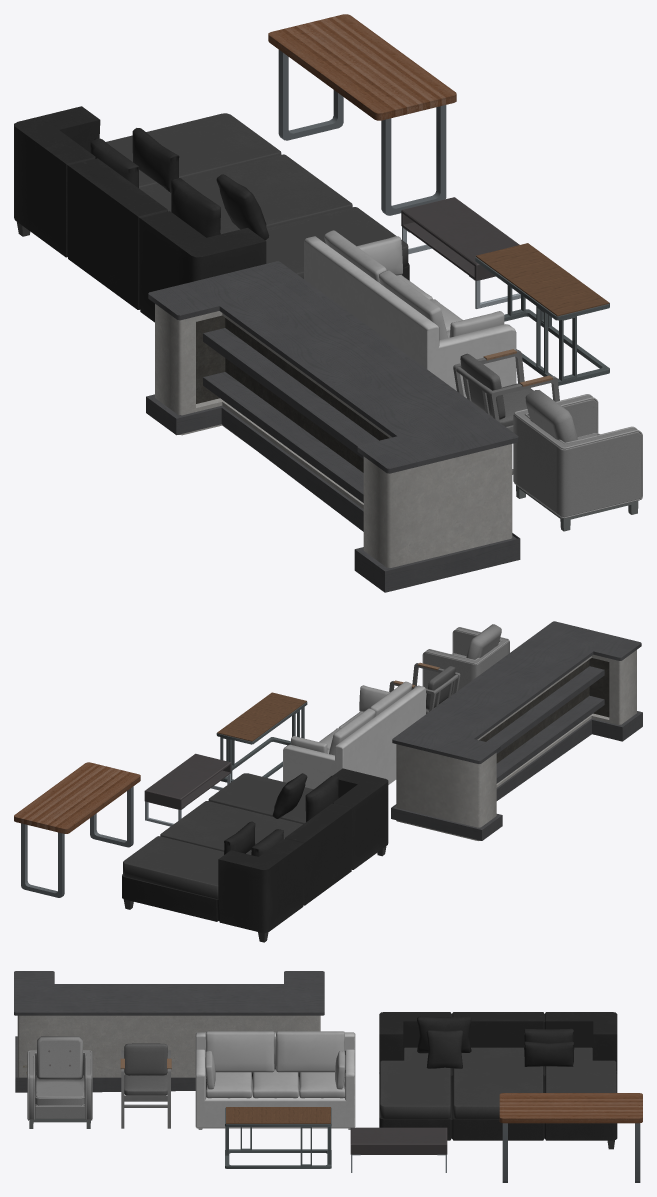
File: pack.fbx
The picture shows the model from 3 angles, top to bottom: view 1: azimuth 30°, elevation 25°; view 2: azimuth 150°, elevation 25°; view 3: azimuth 270°, elevation 25°; orthographic projection. The views are drawn at different scales.
Parts seen in each view (by area): view 1: rec_top_low, rec_main_low, csofa_base_low, csofa_top_low, table3_top_low, korpus_low, sofa_main_low, rec_polki_low, rec_down_low, table2_top_low, table1_top_low, table3_down_low (+12 smaller); view 2: csofa_base_low, rec_top_low, rec_main_low, csofa_top_low, sofa_main_low, table3_top_low, rec_polki_low, rec_down_low, table2_top_low, korpus_low, table1_top_low, table3_down_low (+11 smaller); view 3: csofa_top_low, rec_top_low, csofa_base_low, rec_main_low, sofa_pillowback_low, sofa_main_low, table3_top_low, sofa_pillow_under_low, table2_top_low, spine_low, table1_top_low, podushka2_low (+15 smaller).
Part boxes in pixels (box(x1,y1,x2,y2)): rec_top_low: box(148, 261, 518, 473); rec_main_low: box(155, 304, 512, 567); csofa_base_low: box(14, 106, 409, 322); csofa_top_low: box(106, 113, 408, 278); table3_top_low: box(268, 14, 456, 120); korpus_low: box(513, 395, 641, 517); sofa_main_low: box(304, 236, 516, 398); rec_polki_low: box(203, 328, 378, 502); rec_down_low: box(146, 394, 520, 592); table2_top_low: box(401, 197, 519, 280); table1_top_low: box(476, 243, 609, 316); table3_down_low: box(278, 50, 446, 215); csofa_base_low: box(122, 768, 388, 932); rec_top_low: box(392, 621, 641, 763); rec_main_low: box(396, 650, 636, 840); csofa_top_low: box(123, 773, 313, 898); sofa_main_low: box(283, 685, 425, 789); table3_top_low: box(14, 762, 140, 833); rec_polki_low: box(486, 666, 604, 783); rec_down_low: box(391, 711, 642, 840); table2_top_low: box(144, 753, 231, 809); korpus_low: box(423, 628, 509, 695); table1_top_low: box(217, 692, 306, 741); table3_down_low: box(21, 786, 133, 897); csofa_top_low: box(380, 1047, 616, 1118); rec_top_low: box(14, 971, 324, 1015); csofa_base_low: box(379, 1012, 617, 1140); rec_main_low: box(17, 1015, 320, 1077); sofa_pillowback_low: box(205, 1031, 344, 1072); sofa_main_low: box(195, 1032, 355, 1128); table3_top_low: box(499, 1093, 642, 1123); sofa_pillow_under_low: box(206, 1069, 344, 1098); table2_top_low: box(350, 1127, 447, 1154); spine_low: box(37, 1036, 82, 1079); table1_top_low: box(226, 1107, 330, 1123); podushka2_low: box(124, 1043, 167, 1075).
Bounding box in the file's own units: 432 × 121 × 812.
